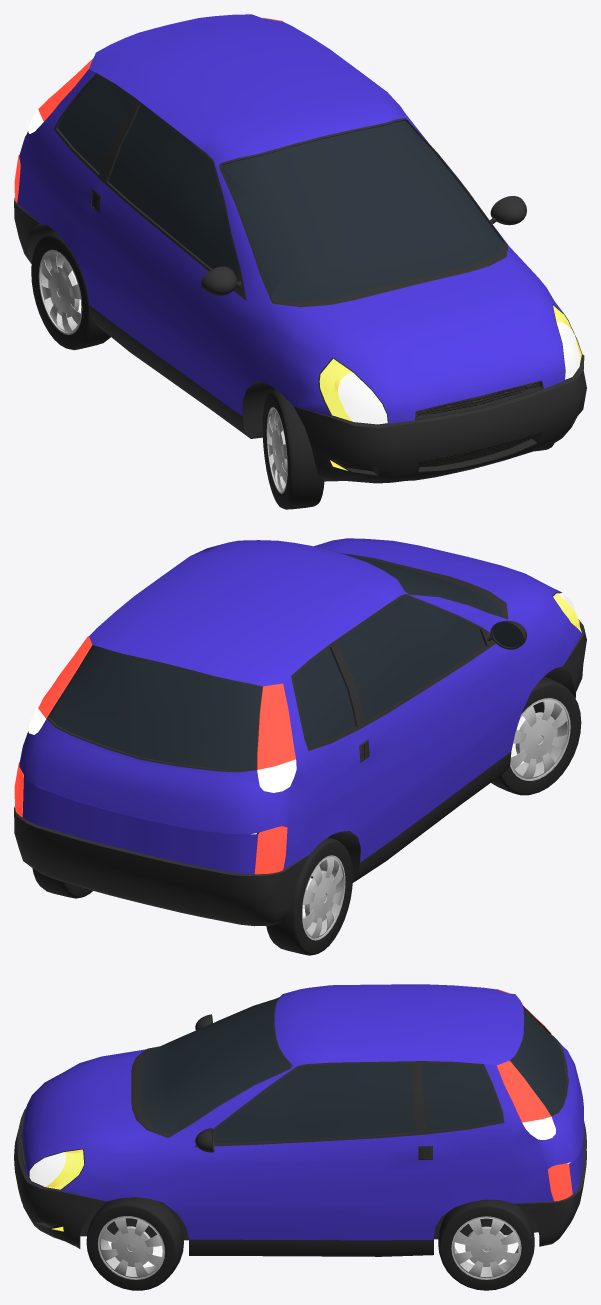
Rendered from car-9.glb.
3 views of the same model, one above another, from view 1: azimuth 30°, elevation 25°; view 2: azimuth 150°, elevation 25°; view 3: azimuth 270°, elevation 25° (orthographic). The views are drawn at different scales.
Parts seen in each view (by area): view 1: CarBody.008, WheelRR.004, WheelFR.004; view 2: CarBody.008, WheelFR.004, WheelRR.004, WheelRL.004; view 3: CarBody.008, WheelFL.004, WheelRL.004.
Boxes of the visible parts, x1,y1,x2,y2 form: CarBody.008: (14,14,586,483); WheelRR.004: (31,232,110,350); WheelFR.004: (262,390,324,509); CarBody.008: (14,538,586,926); WheelFR.004: (491,676,581,795); WheelRR.004: (266,837,352,955); WheelRL.004: (32,868,92,898); CarBody.008: (14,984,586,1256); WheelFL.004: (86,1197,183,1290); WheelRL.004: (438,1199,534,1290).
Size of the model in its own units: 2.05 by 1.72 by 3.92.
10 materials, 1 textured.
